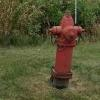a fire hydrant: (50, 11, 84, 79)
